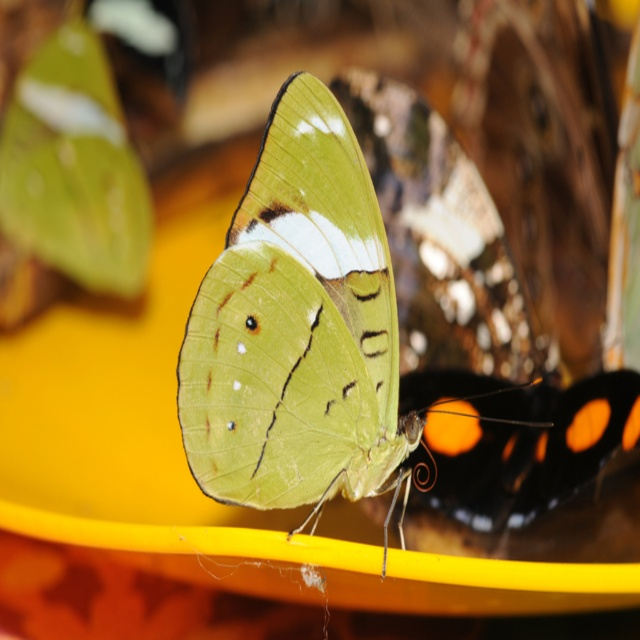Butterfly: (189, 81, 541, 606)
